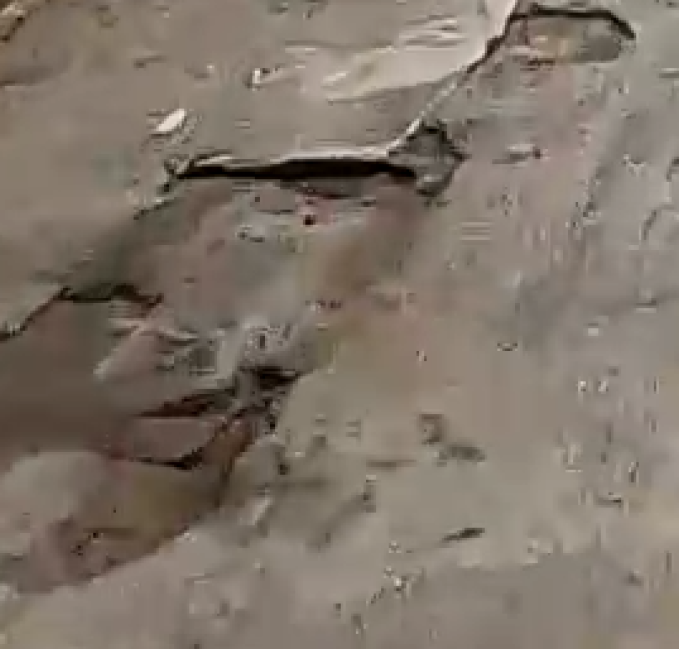Berlubang: (3, 276, 318, 605), (92, 76, 483, 236), (440, 3, 650, 70)
